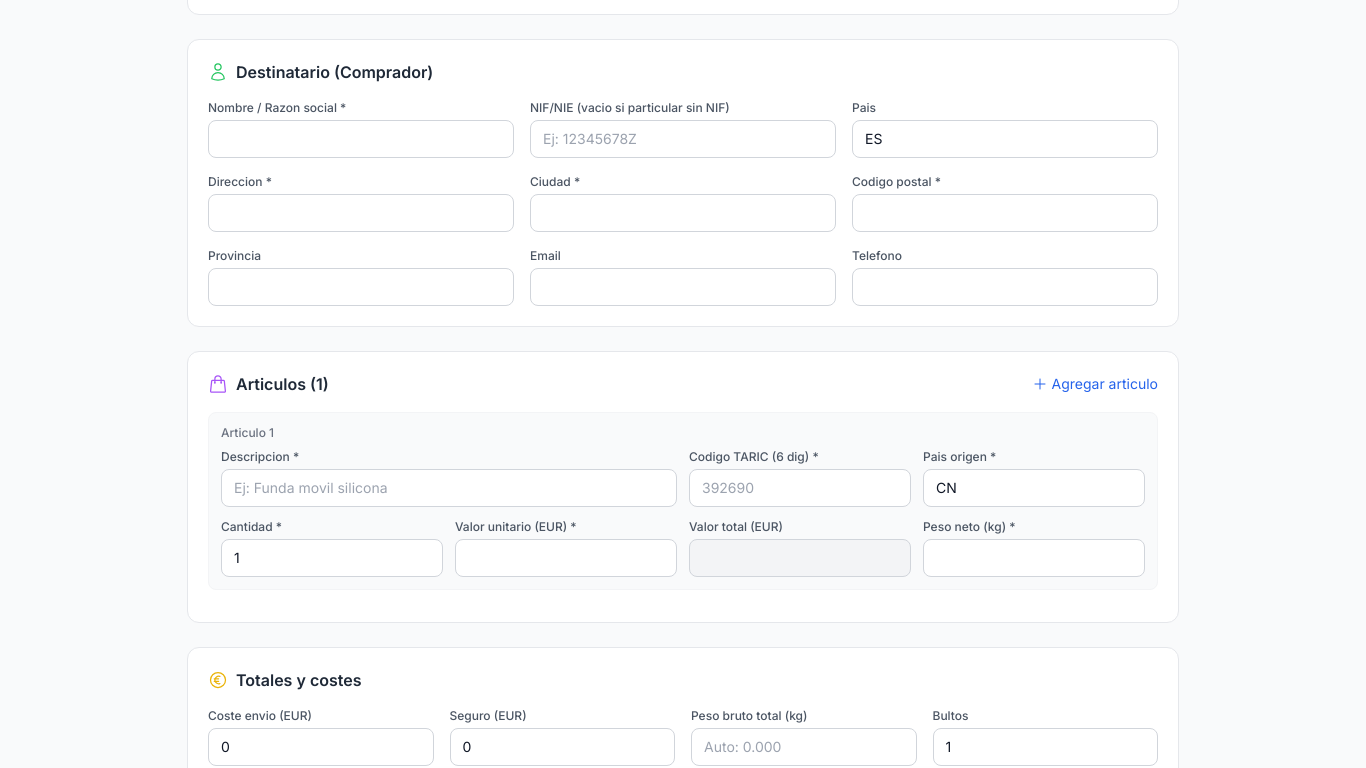
Test case: H7DirectForm › Items - gestión y auto-cálculo › elimina un item si hay más de uno
(page scrolled)
Click the button "Agregar articulo" at (1095, 384), box [1032,374,1158,394]
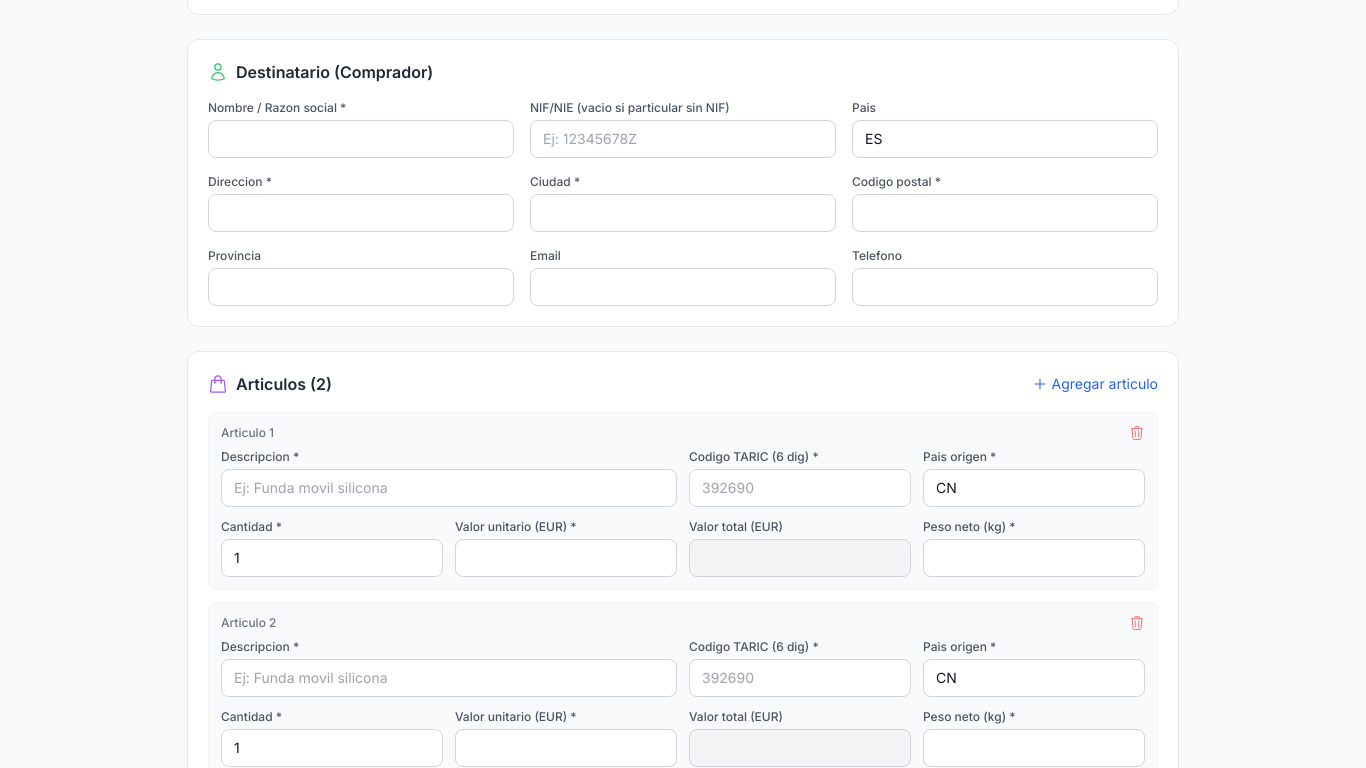
Expected: the text "Articulo 2" is shown, [221,615,276,631]
Click the 2nd button at (1137, 433), box [1129,425,1145,441]
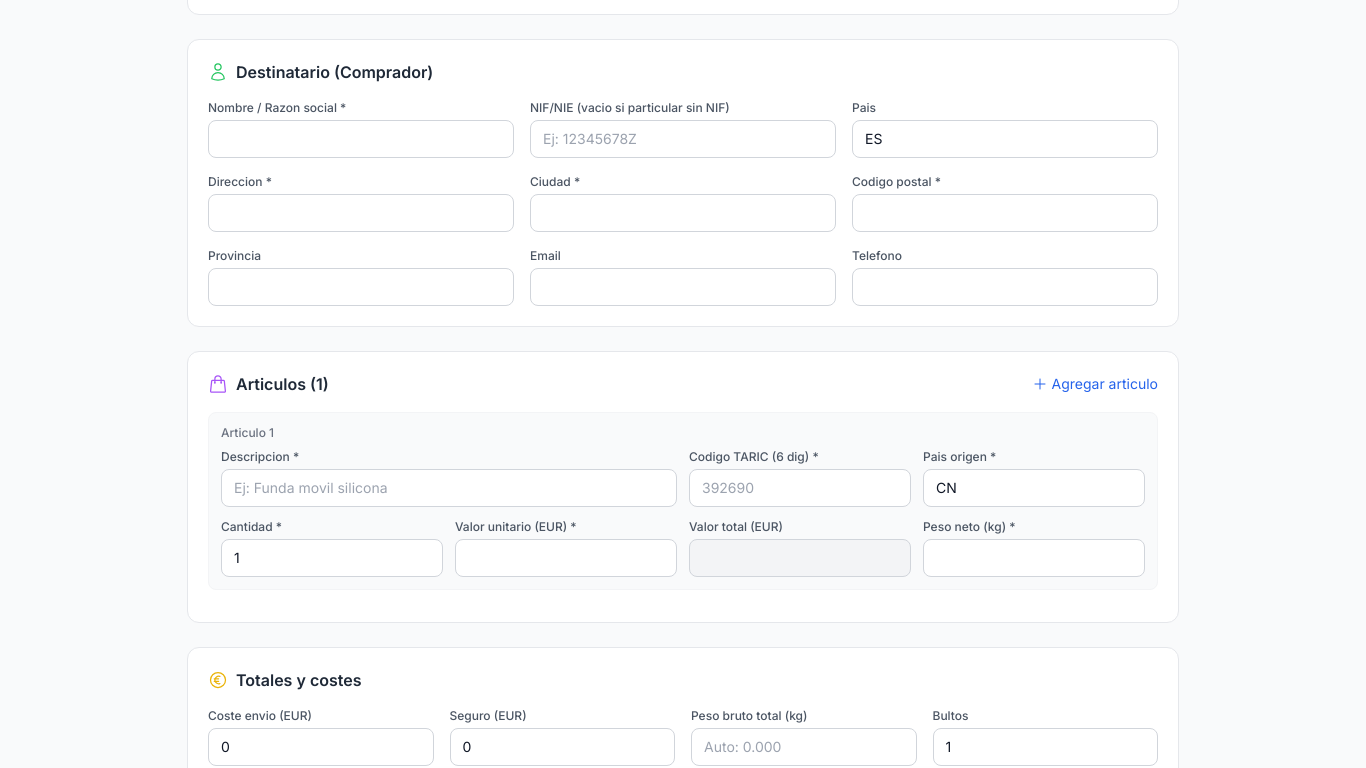
Expected: the text "Articulo 2" is gone
Expected: the heading "Articulos (1)" is shown, [208,372,329,396]
